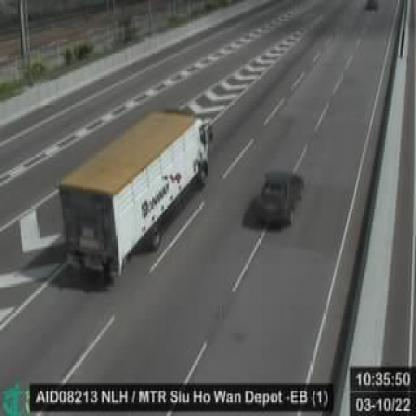Car: (254, 172, 301, 228)
Truck: (57, 109, 211, 274)
